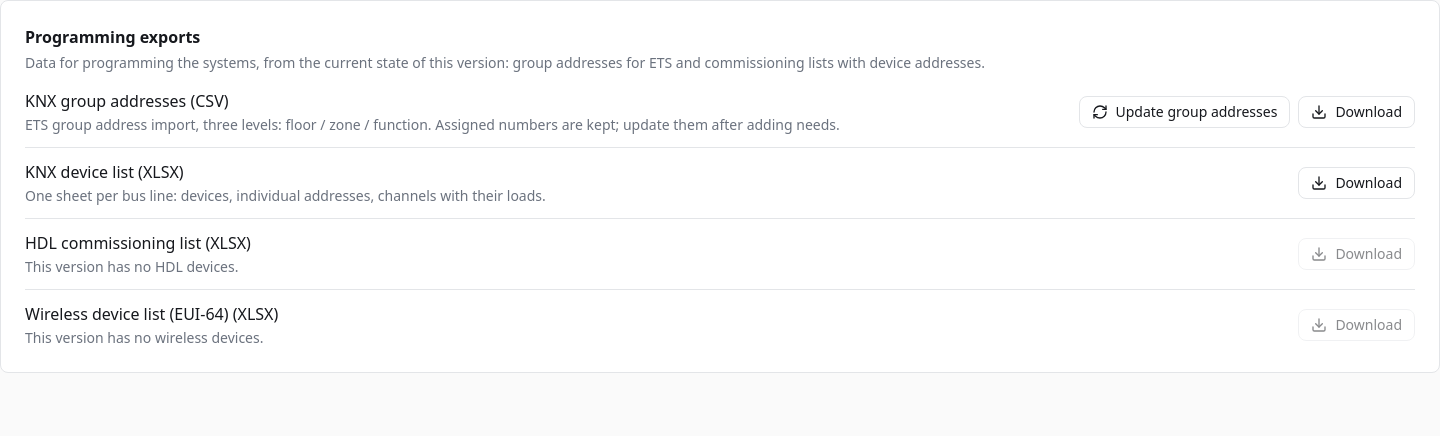
ProgrammingExportsSection › shows the translated API error of a failed export
Click the button with aria-label "Download: KNX group addresses (CSV)".
click(1357, 112)  # box x1=1298 y1=96 x2=1415 y2=128
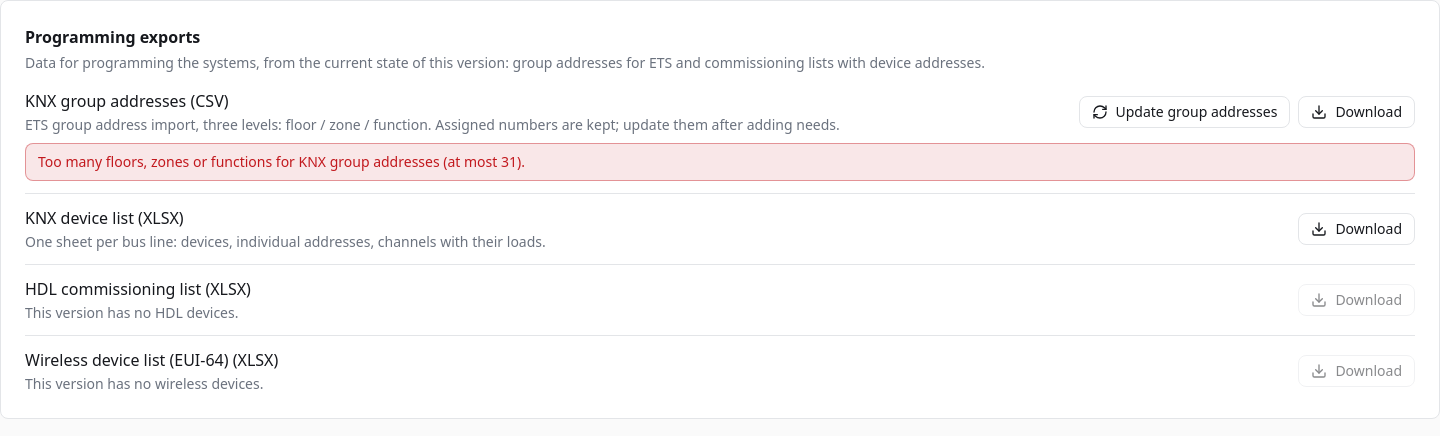
Now the message reads "Too many floors, zones or functions for KNX group addresses (at most 31).", box x1=38 y1=152 x2=525 y2=171
